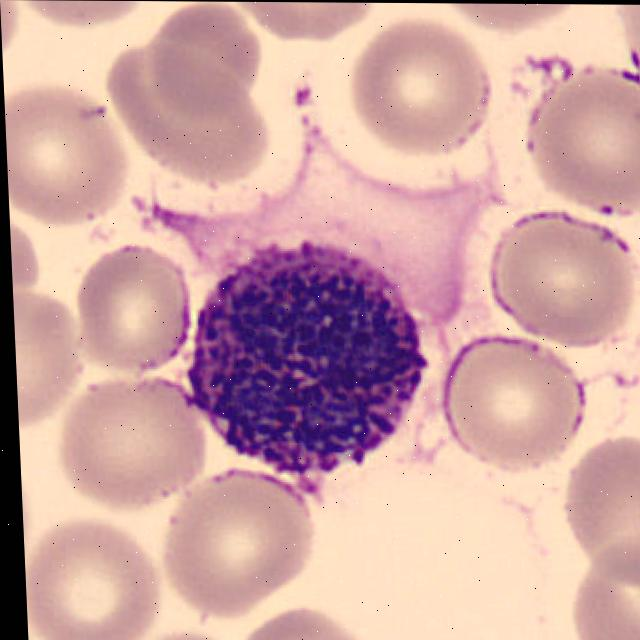basophil: (189, 243, 435, 468)
rbc: (99, 40, 296, 191), (163, 459, 326, 613), (484, 201, 640, 348), (47, 374, 214, 501), (524, 50, 640, 225), (22, 506, 167, 640), (444, 332, 591, 463), (350, 23, 493, 155), (4, 87, 135, 220), (74, 239, 192, 376), (559, 431, 640, 579), (156, 1, 266, 108), (551, 532, 640, 640), (234, 2, 390, 63), (13, 295, 86, 411), (239, 603, 388, 640), (449, 4, 580, 40), (17, 0, 143, 32), (145, 612, 242, 640), (10, 217, 43, 283), (0, 0, 21, 57)
